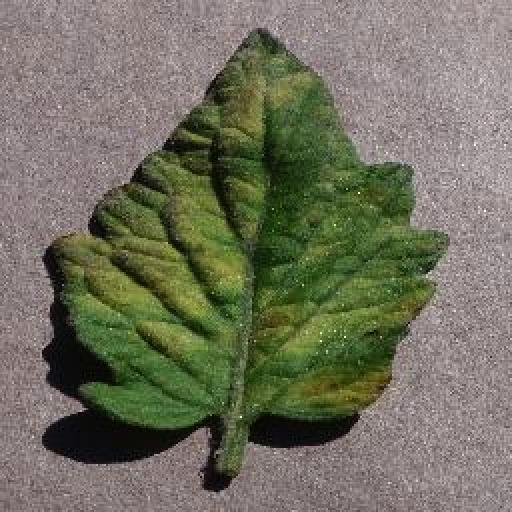disease_tomato: (50, 25, 448, 431)
